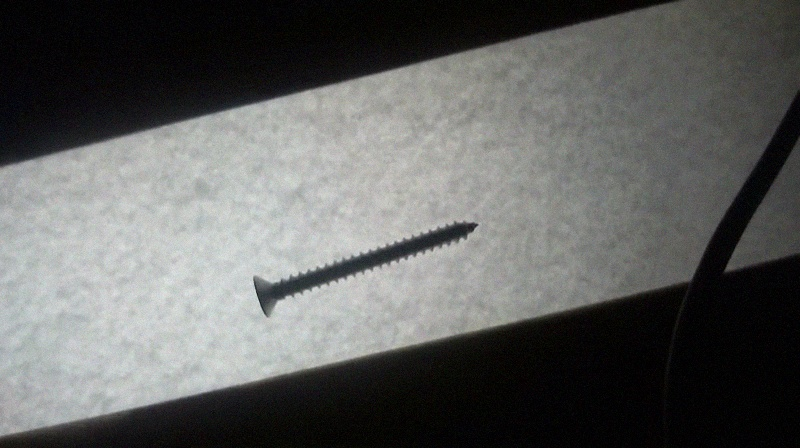S002: (249, 218, 482, 319)
